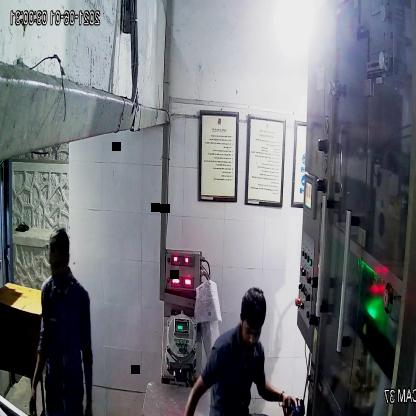no_goggles: (236, 325, 267, 345)
